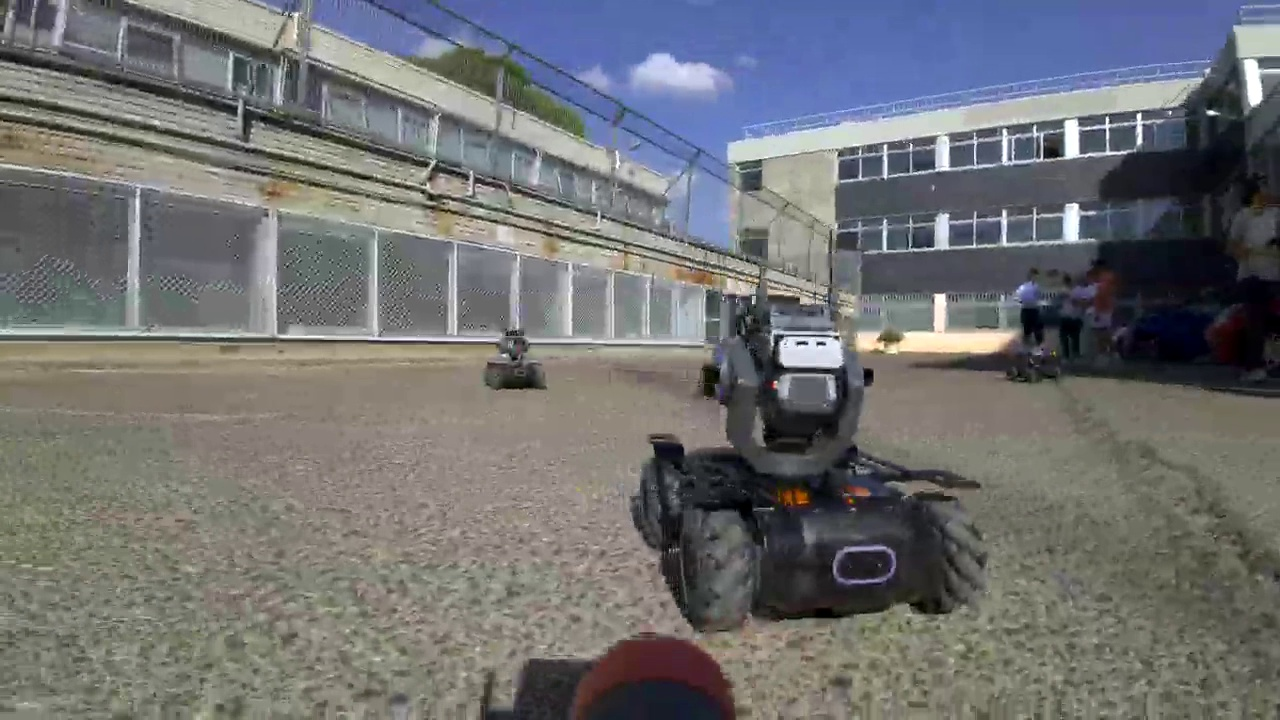robot: (628, 226, 988, 639), (486, 329, 549, 389), (1006, 338, 1058, 384)
